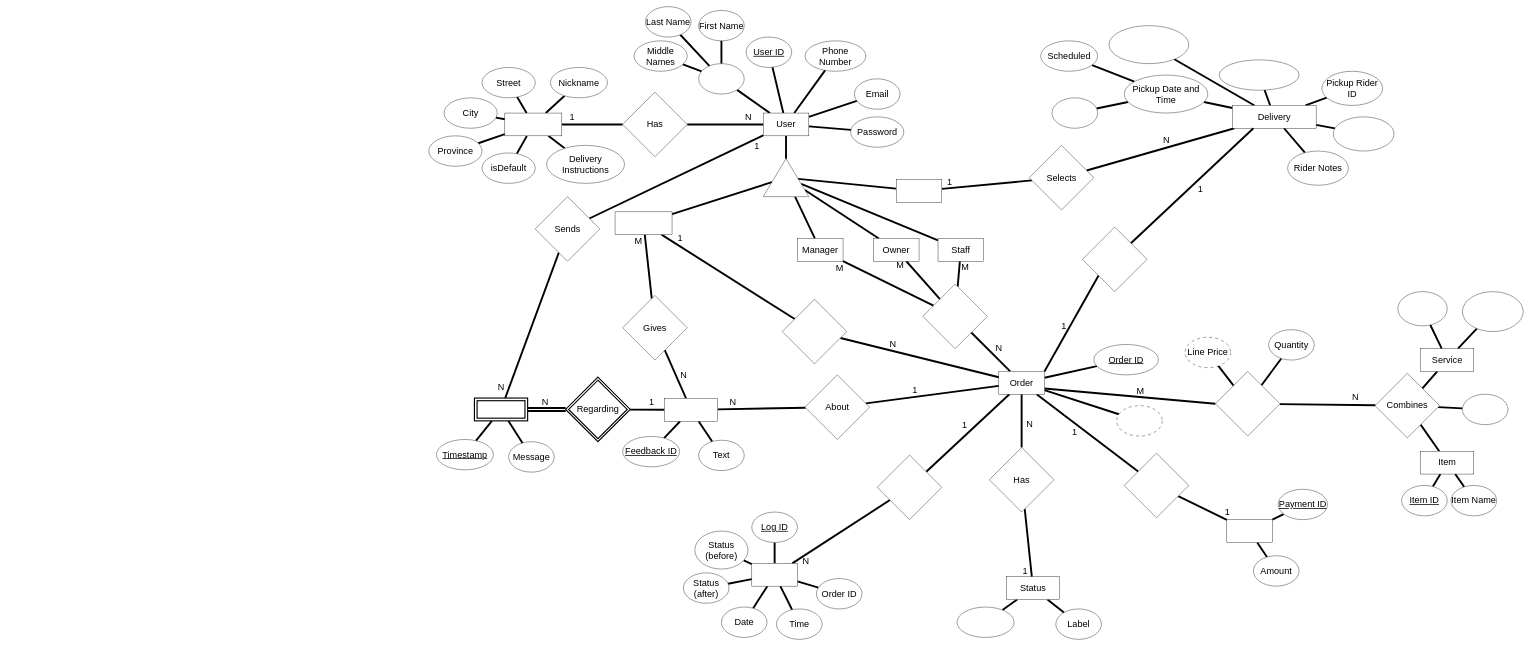
This 1530x646 diagram has some shape labels left out. Each missing label, with the centre of its shape:
Actual: pixel 1075 112
Addresses: pixel 533 124
Chat: pixel 501 409
Contains: pixel 1247 403
Customer: pixel 643 223
Delivery Date and Time: pixel 1149 44
Delivery ID: pixel 1259 74
Delivery Rider ID: pixel 1363 133
Feedback: pixel 691 409
Fulfilled By: pixel 1114 259
ISA: pixel 786 177
Log: pixel 774 574
Logs: pixel 909 487
Name: pixel 721 78
Payment: pixel 1249 530
Places: pixel 814 331
Price: pixel 1485 409
Rider: pixel 919 190
See: pixel 954 316
Service ID: pixel 1422 308
Service Name: pixel 1492 311
Settled By: pixel 1156 485
Status ID: pixel 985 622
Total: pixel 1139 420
